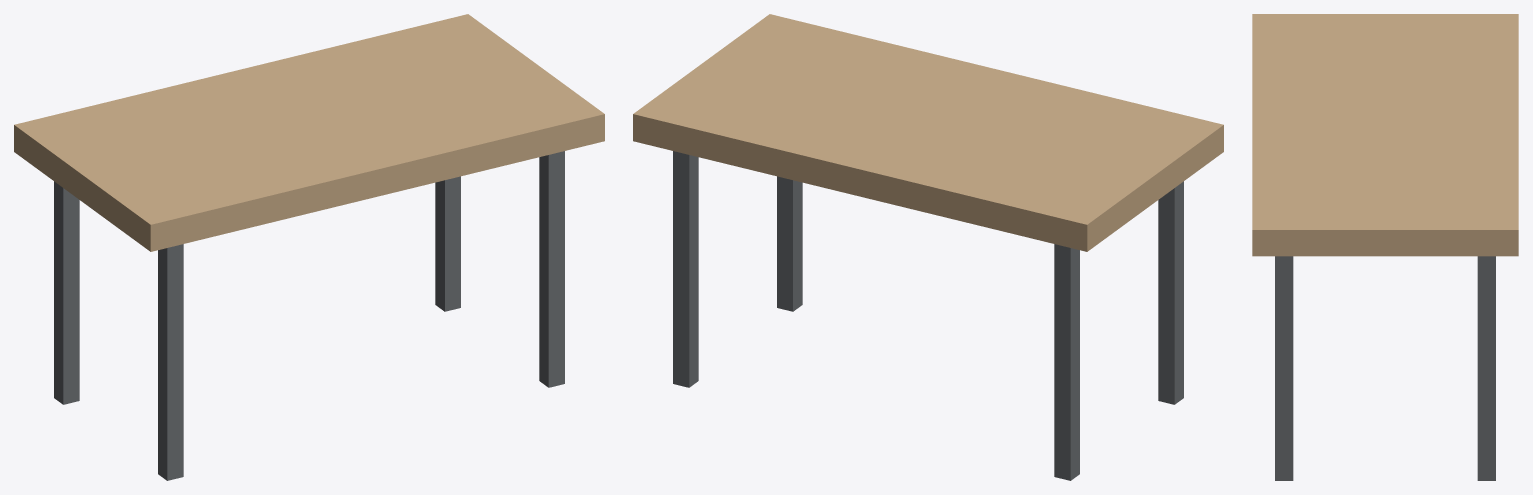
File: table_05.glb
3 views of the same model, side by side, from view 1: azimuth 30°, elevation 25°; view 2: azimuth 150°, elevation 25°; view 3: azimuth 270°, elevation 25° (orthographic). The views are drawn at different scales.
Visible parts, largest first — view 1: top, leg-0.5880.2774, leg0.5880.2774, leg-0.588-0.2774, leg0.588-0.2774; view 2: top, leg-0.588-0.2774, leg0.588-0.2774, leg-0.5880.2774, leg0.5880.2774; view 3: top, leg0.588-0.2774, leg0.5880.2774.
Boxes of the visible parts, box(x1,y1,x2,y2) form: top: box(14, 14, 604, 251); leg-0.5880.2774: box(158, 244, 183, 480); leg0.5880.2774: box(539, 151, 564, 387); leg-0.588-0.2774: box(54, 181, 79, 404); leg0.588-0.2774: box(435, 176, 460, 311); top: box(633, 14, 1223, 251); leg-0.588-0.2774: box(1054, 244, 1079, 480); leg0.588-0.2774: box(673, 151, 698, 387); leg-0.5880.2774: box(1158, 181, 1183, 404); leg0.5880.2774: box(777, 176, 802, 311); top: box(1252, 14, 1518, 256); leg0.588-0.2774: box(1477, 256, 1495, 480); leg0.5880.2774: box(1275, 256, 1293, 480).
Size of the model in its own units: 1.4 by 0.8 by 0.73.
